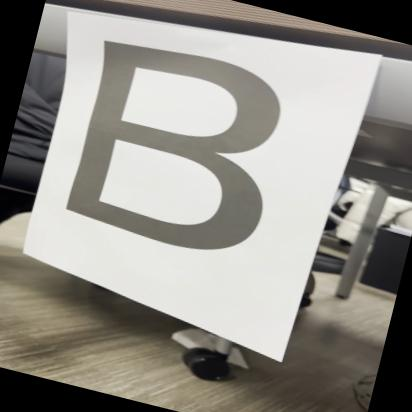seat: (26, 19, 316, 279)
